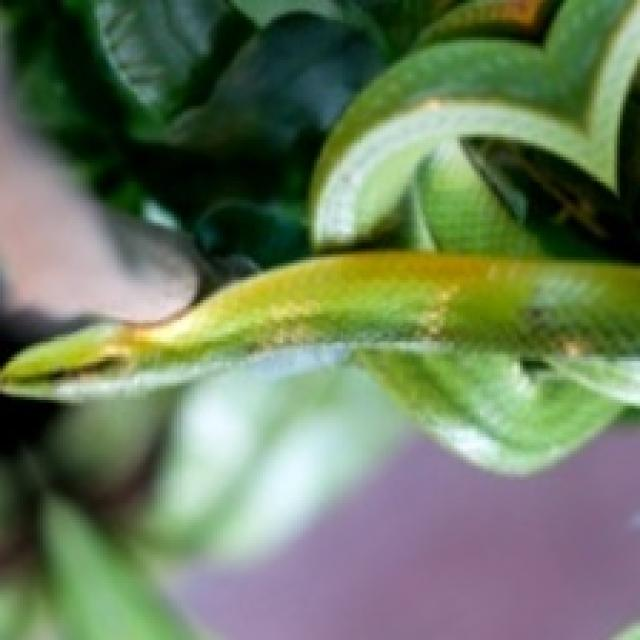red-tailed green ratsnake: (0, 0, 640, 473), (0, 0, 637, 397), (0, 251, 637, 397)
